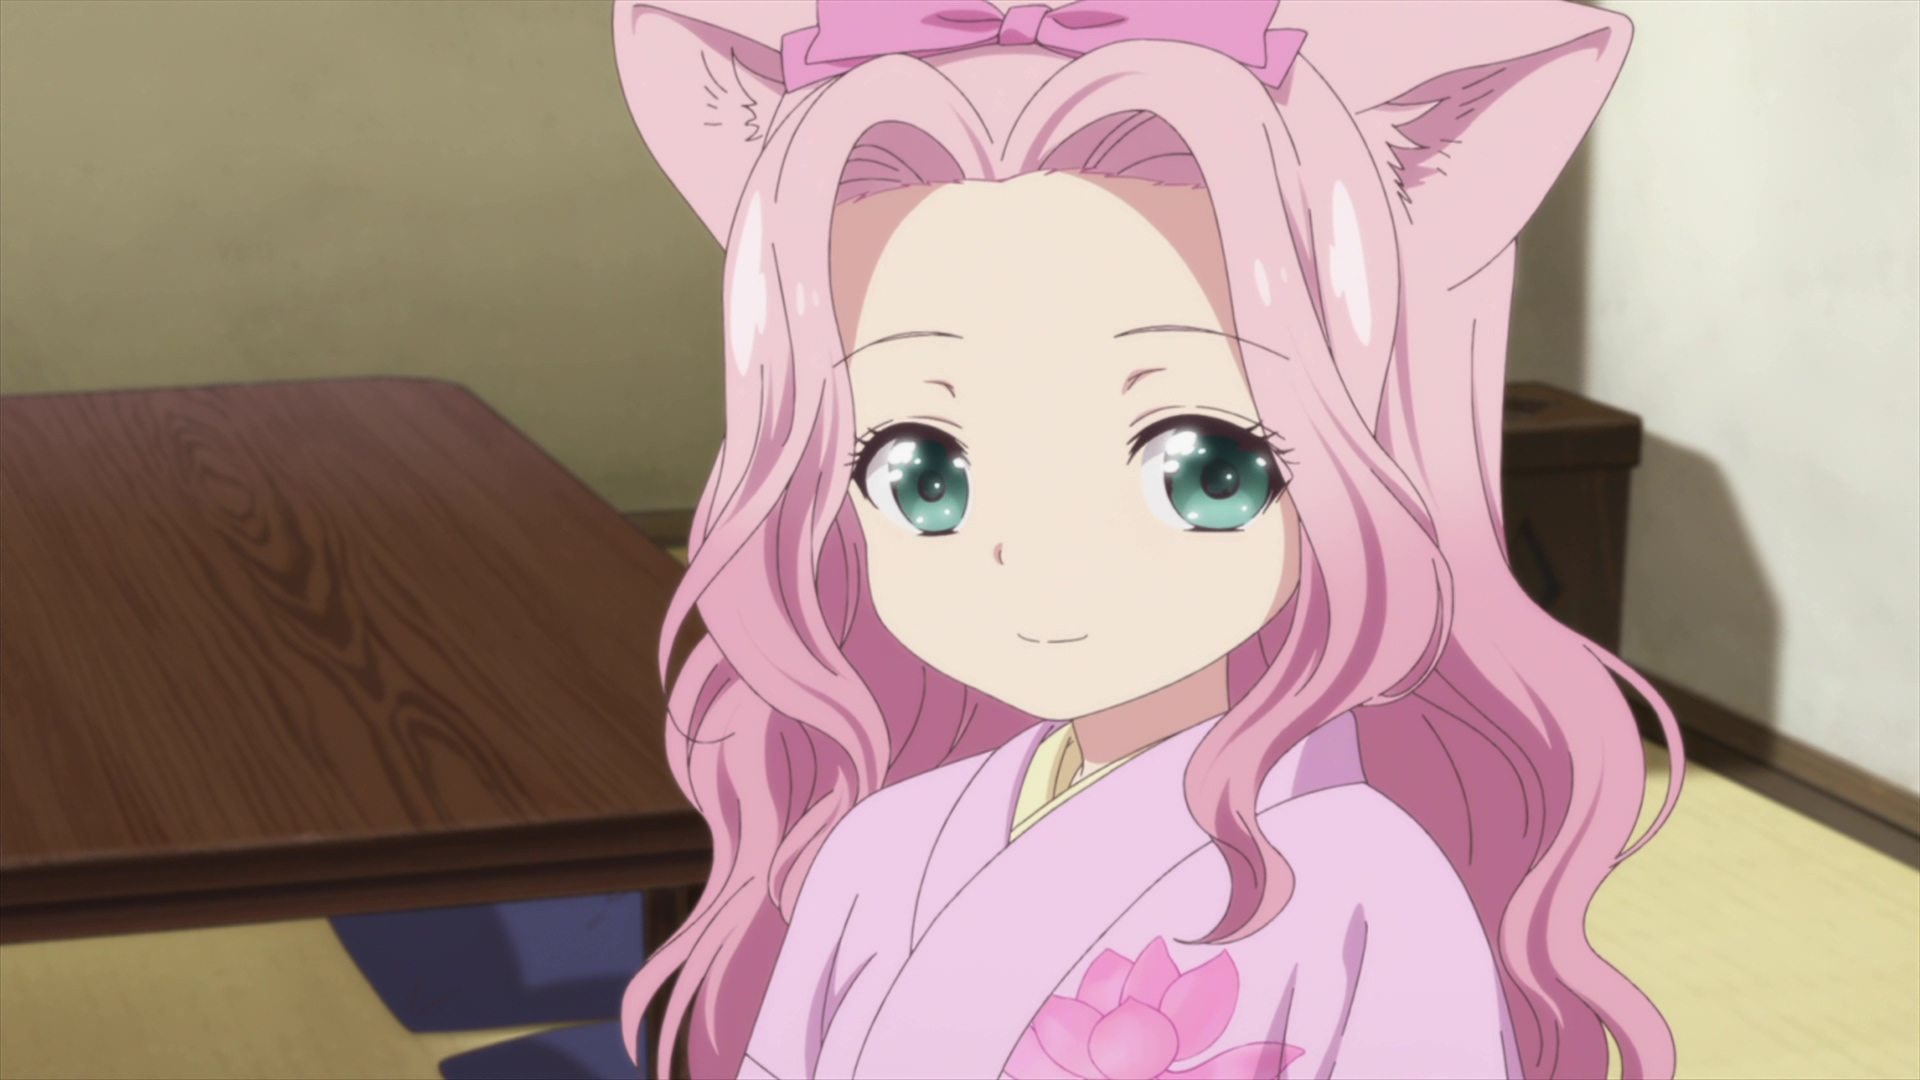莲: (611, 1, 1685, 1080)
